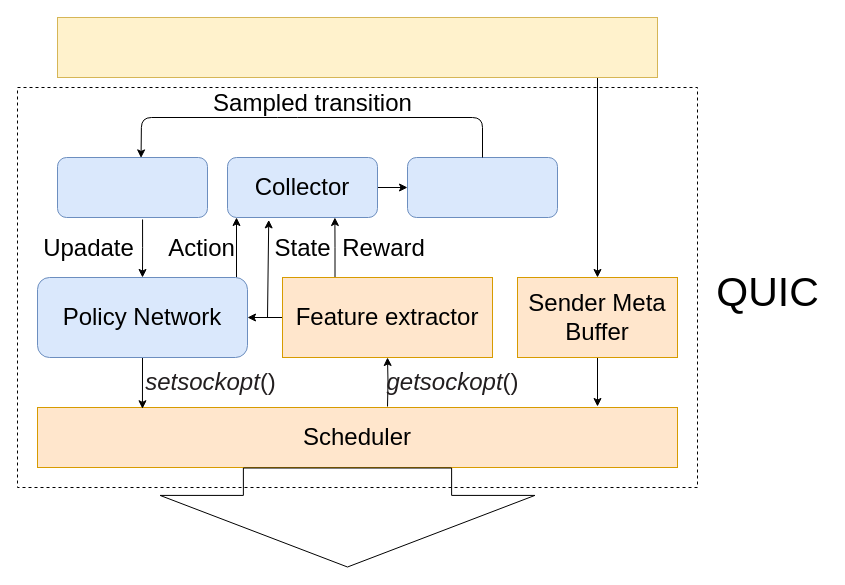
The diagram is 845 pixels wide and 585 high, and some of its shapes have lost their labels. Here are the shapes that lost their labels. From the top down, the box of each, then its label:
(56, 16, 658, 78): APP
(56, 156, 208, 218): Trainer
(406, 156, 558, 218): Replay Buffer
